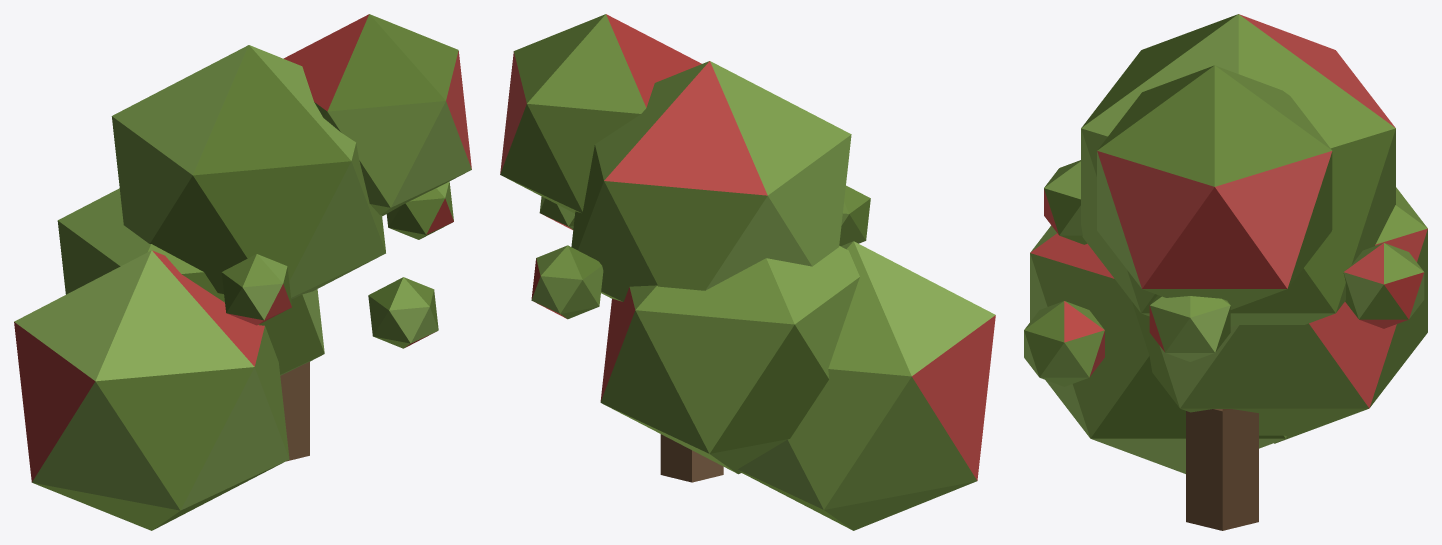
Rendered from Plant_Berry_a.fbx.
3 renders of one model, left to right at view 1: azimuth 30°, elevation 25°; view 2: azimuth 150°, elevation 25°; view 3: azimuth 270°, elevation 25°, orthographic. The views are drawn at different scales.
Parts seen in each view (by area): view 1: Plant_Berry_a; view 2: Plant_Berry_a; view 3: Plant_Berry_a.
Boxes of the visible parts, bbox=[...] form: Plant_Berry_a: bbox=[14, 14, 471, 530]; Plant_Berry_a: bbox=[500, 14, 995, 530]; Plant_Berry_a: bbox=[1024, 14, 1427, 530].
Size of what is drawn, in the model's own units: 0.5746 by 0.568 by 0.3825.
